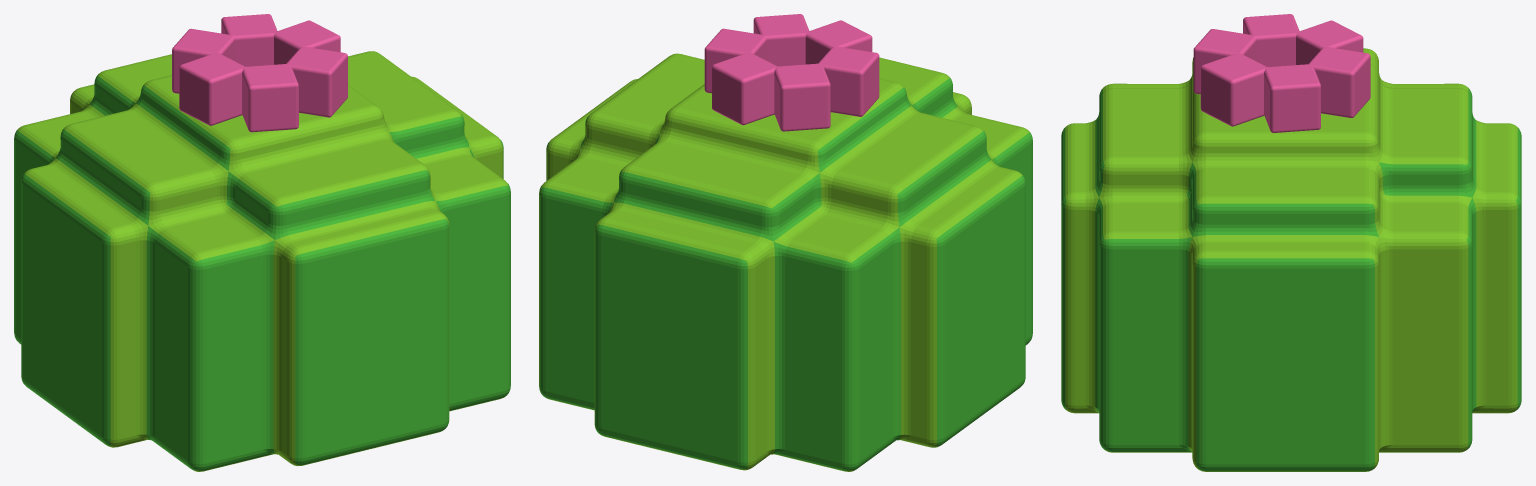
3 renders of one model, left to right at view 1: azimuth 30°, elevation 25°; view 2: azimuth 150°, elevation 25°; view 3: azimuth 270°, elevation 25°, orthographic.
Parts seen in each view (by area): view 1: BipJamExport_cactus3; view 2: BipJamExport_cactus3; view 3: BipJamExport_cactus3.
Part boxes in pixels (box(x1,y1,x2,y2)): BipJamExport_cactus3: box(14, 14, 510, 471); BipJamExport_cactus3: box(539, 14, 1032, 471); BipJamExport_cactus3: box(1061, 14, 1521, 471).
Size of the model in its own units: 0.6217 by 0.4817 by 0.6166.
